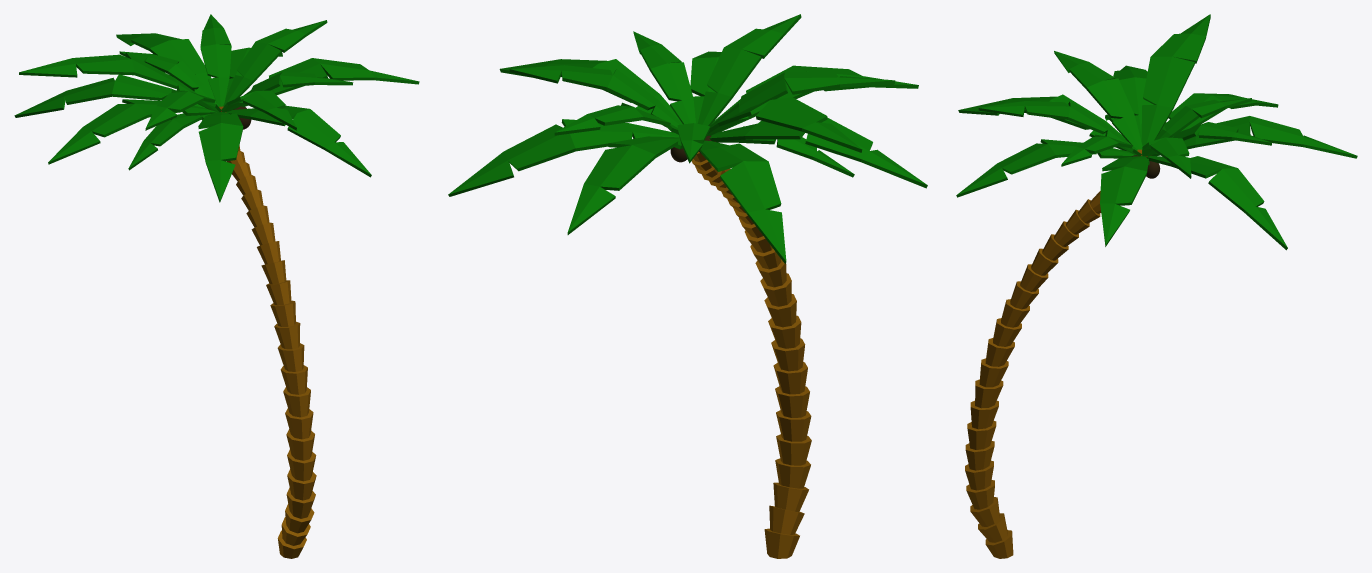
The model's file is Palm tree.fbx.
The picture shows the model from 3 angles, left to right: view 1: azimuth 30°, elevation 25°; view 2: azimuth 150°, elevation 25°; view 3: azimuth 270°, elevation 25°; orthographic projection. The views are drawn at different scales.
Parts seen in each view (by area): view 1: Plane, Cube; view 2: Plane, Cube; view 3: Plane, Cube.
Boxes of the visible parts, box(x1,y1,x2,y2) form: Plane: box(14, 14, 419, 202); Cube: box(219, 106, 316, 558); Plane: box(448, 14, 927, 263); Cube: box(691, 152, 811, 558); Plane: box(956, 14, 1357, 250); Cube: box(965, 149, 1151, 558).
Size of the model in its own units: 594 by 711 by 562.
